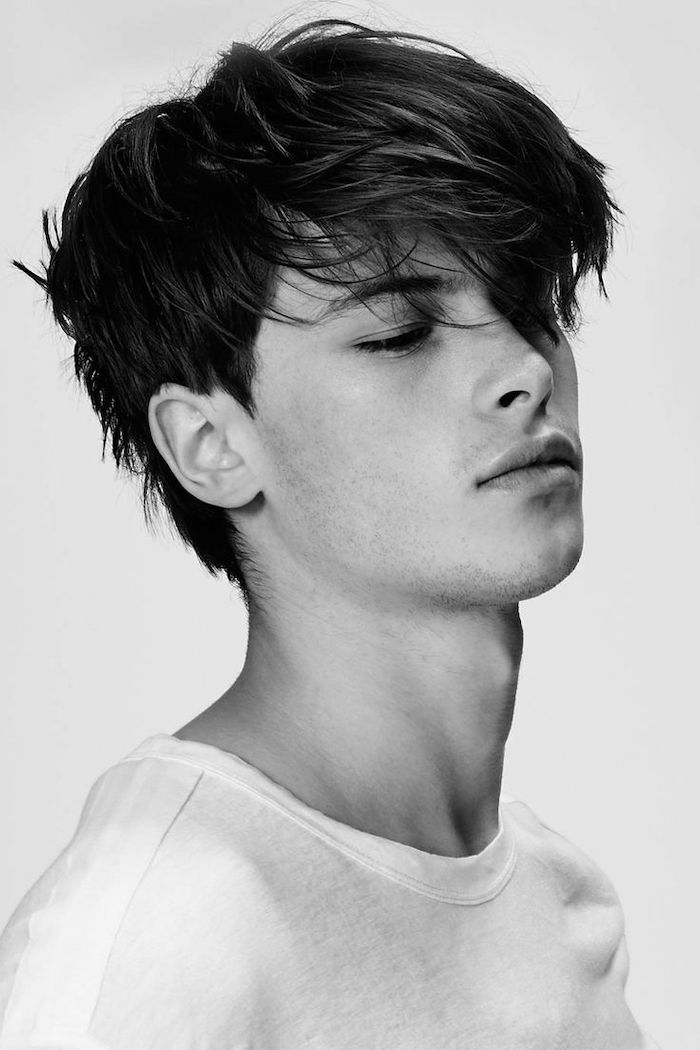BOY: (39, 34, 642, 634)
